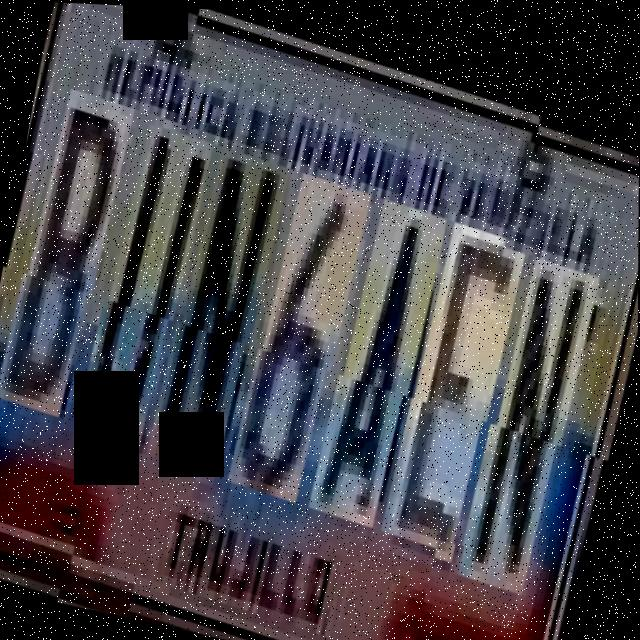6: (236, 160, 375, 500)
A: (317, 184, 452, 522)
B: (1, 92, 135, 429)
E: (390, 205, 533, 546)
N: (155, 137, 294, 475), (471, 229, 606, 575)
U: (82, 115, 216, 454)
